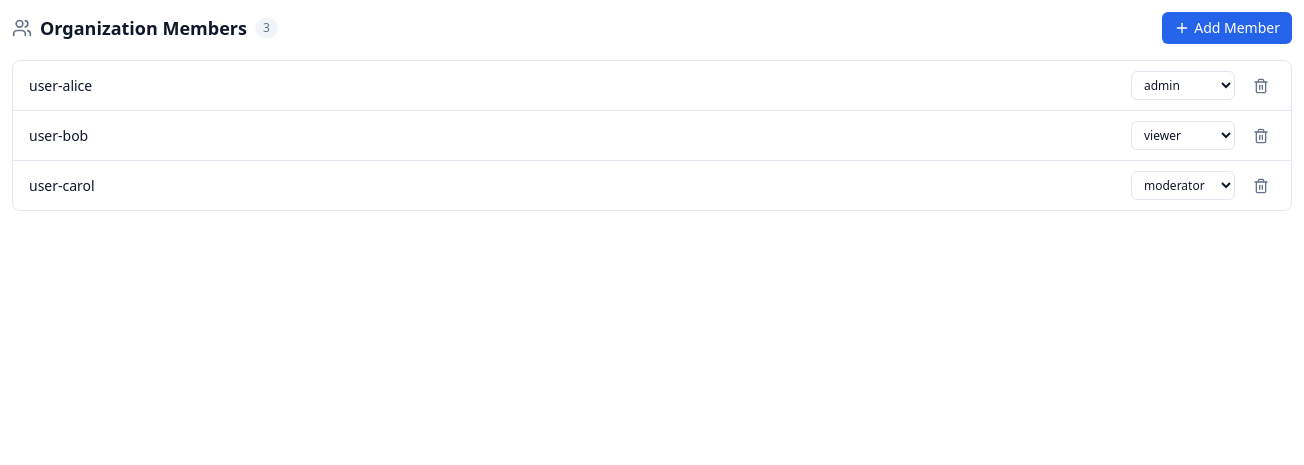
Test: MembershipManager › shows add form when Add Member clicked
The width and height of the screenshot is (1304, 465).
Click the button with test id "member-add-toggle".
click(1227, 28)  # box [1162, 12, 1292, 44]
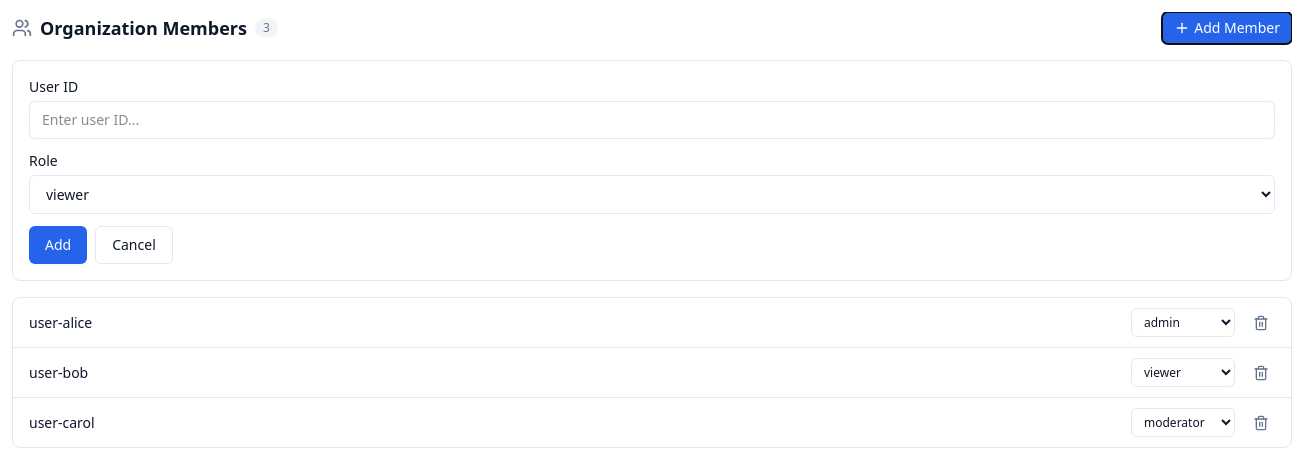
Result: the form with test id "member-add-form" is shown at [12, 60, 1292, 281]
